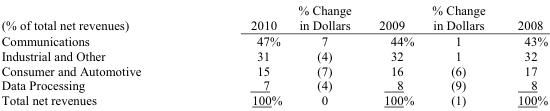table: (0, 1, 547, 108)
table column: (0, 1, 195, 108), (195, 1, 289, 108), (422, 1, 500, 108), (289, 1, 364, 108), (364, 1, 422, 108), (500, 1, 547, 108)
table column header: (0, 1, 547, 32)
table row: (0, 1, 547, 32), (0, 92, 547, 108), (0, 32, 547, 47), (0, 47, 547, 62), (0, 62, 547, 77), (0, 77, 547, 92)
